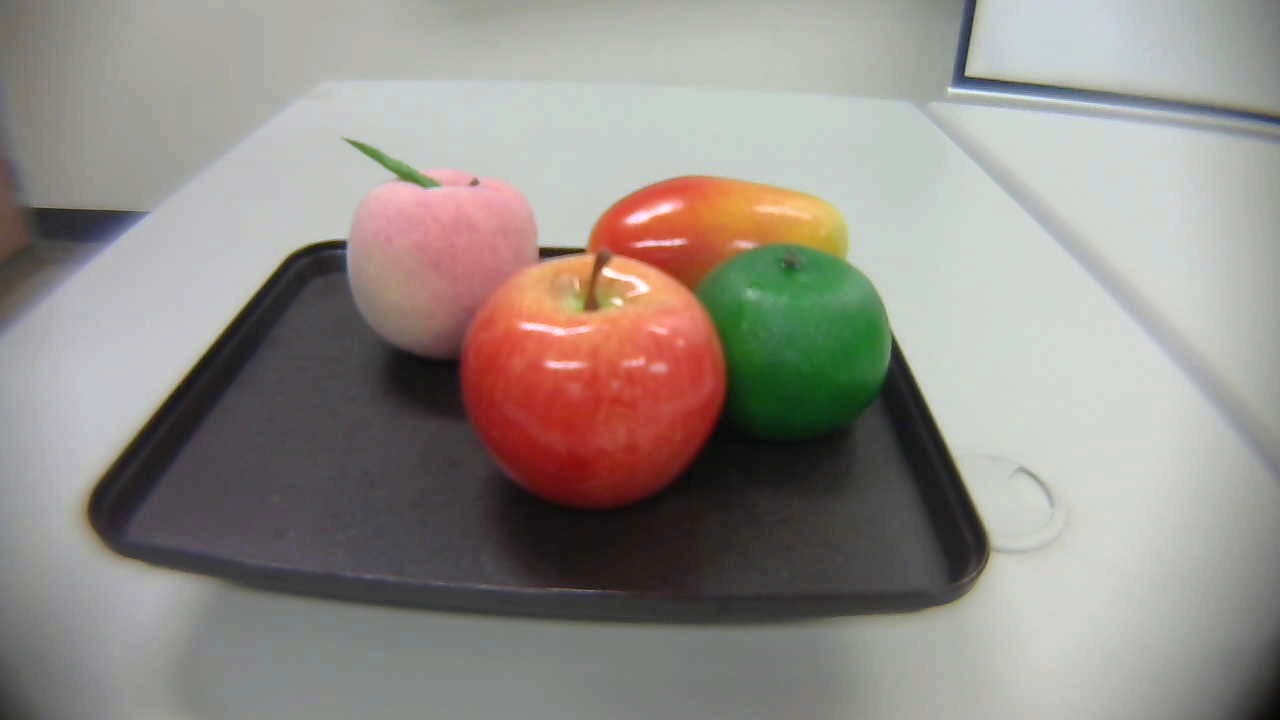green orange: (682, 244, 892, 441)
peach: (325, 128, 547, 359)
red apple: (458, 243, 727, 518)
red mango: (577, 173, 857, 319)
